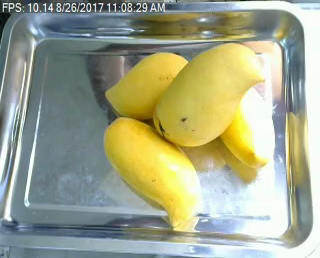Mango: (102, 115, 205, 229), (151, 42, 260, 148), (102, 48, 190, 118), (218, 84, 278, 171)
